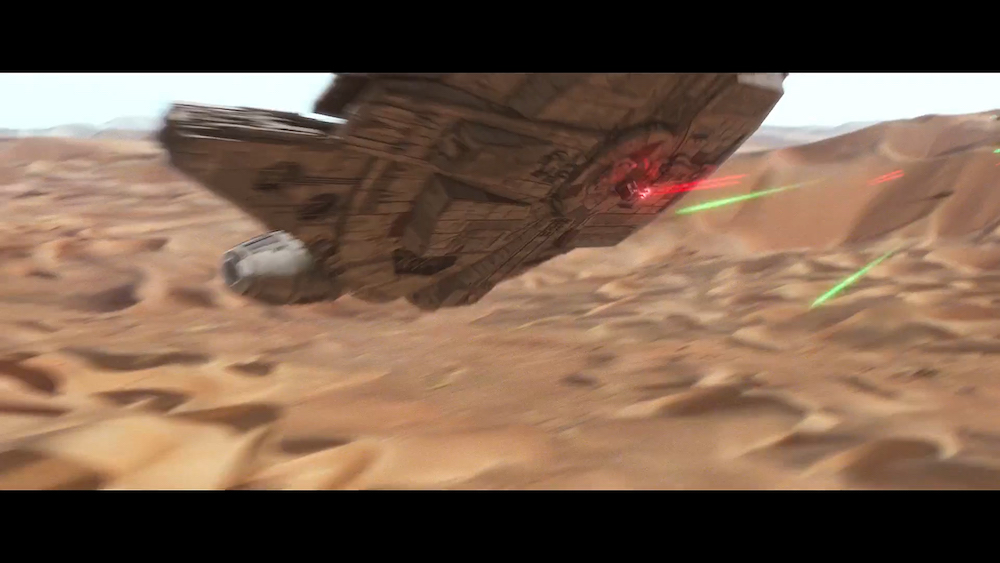Millennium Falcon: (159, 76, 789, 312)
